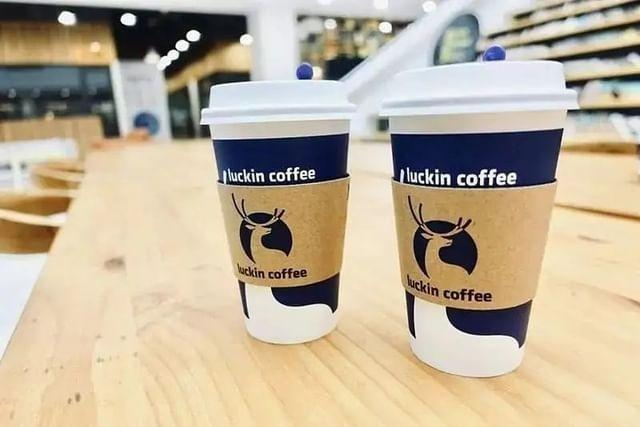cup-disposable: (377, 55, 576, 380), (196, 76, 365, 353)
